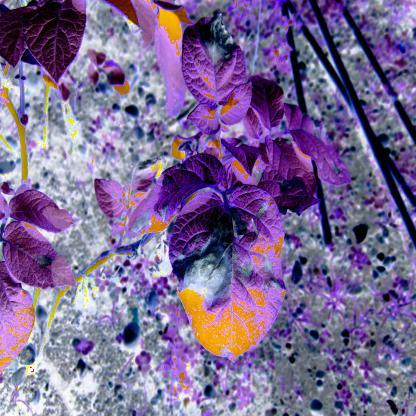Potato leaf late blight: (170, 181, 287, 360), (178, 6, 248, 108), (119, 166, 216, 234), (2, 221, 80, 298), (288, 125, 354, 187), (264, 172, 320, 216)
